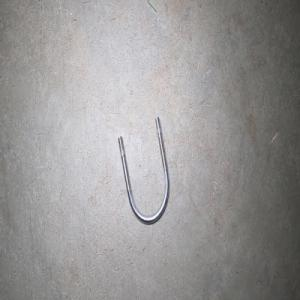ClampPart: (117, 116, 170, 225)
